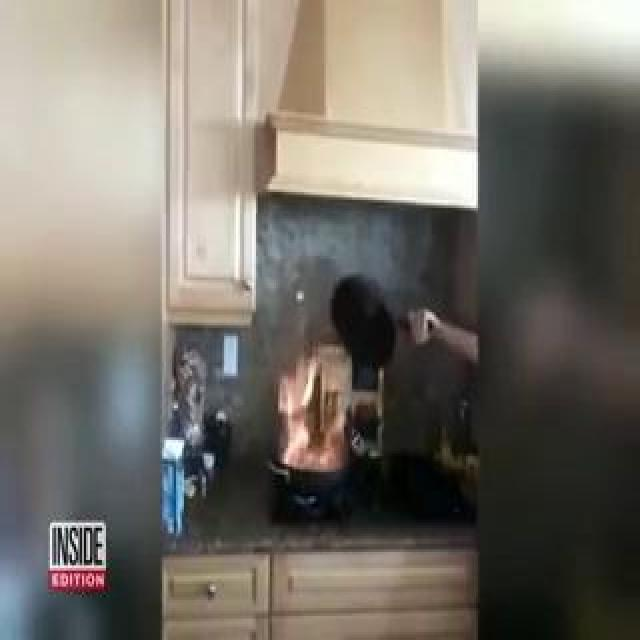Fire: (86, 226, 317, 366)
